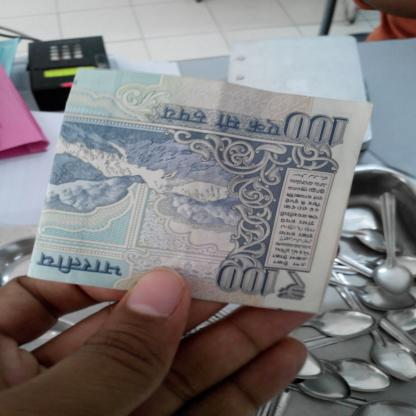Old100Back: (26, 67, 374, 315)
